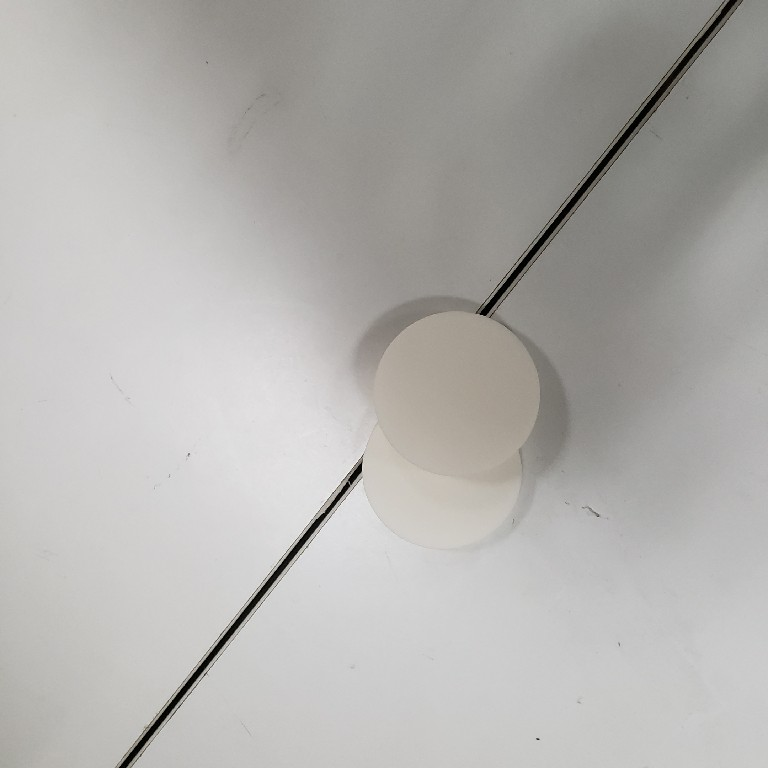ceramics: (359, 305, 546, 553)
